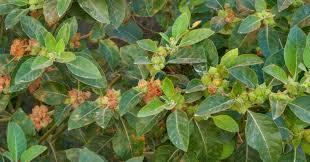healthy_leaf: (21, 18, 310, 158)
